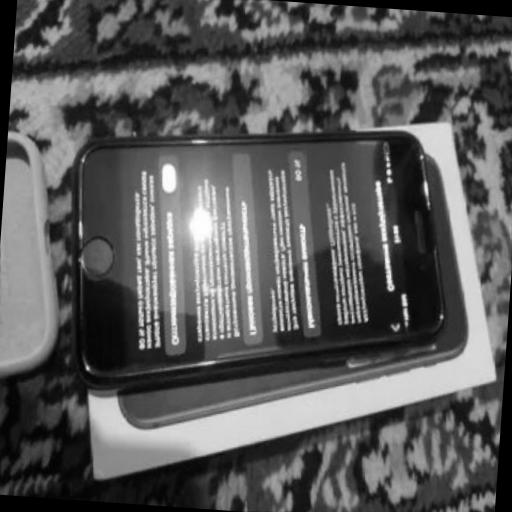phone: (75, 138, 448, 387)
